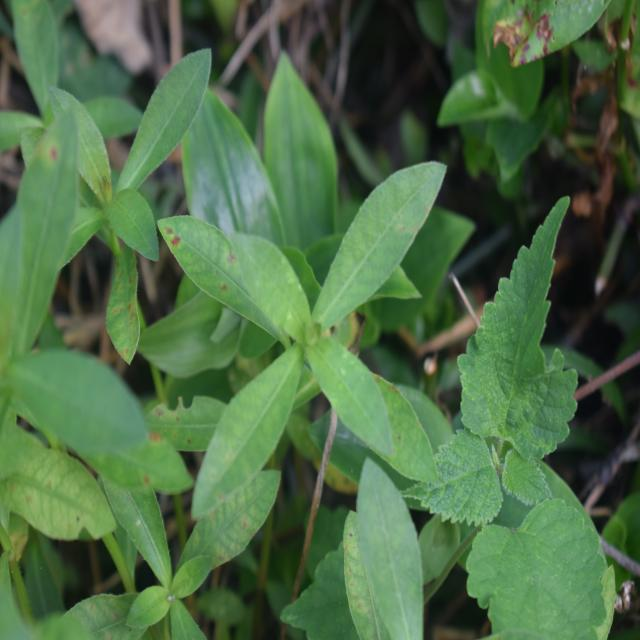Alligatorweed: (192, 154, 457, 488), (34, 12, 202, 296)
